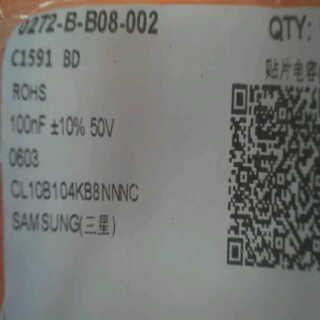100nF: (2, 107, 55, 139)
